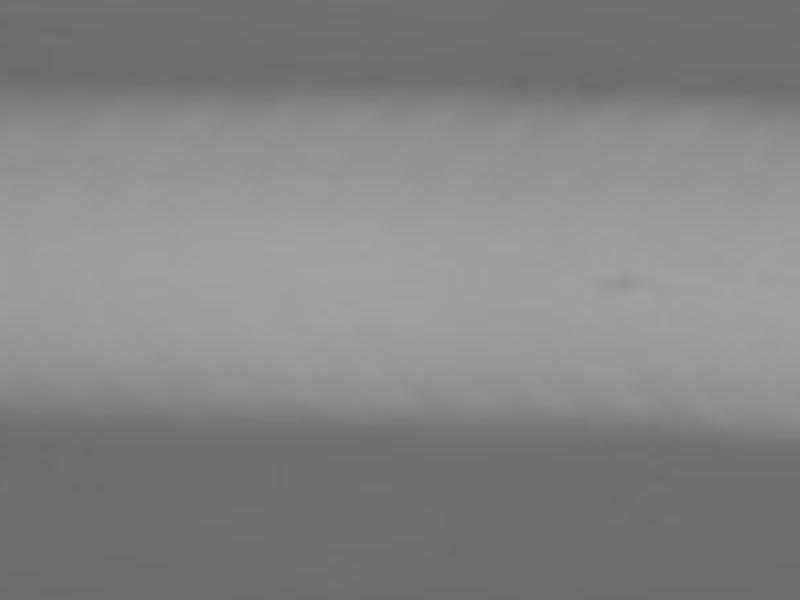defect: (608, 270, 632, 294)
